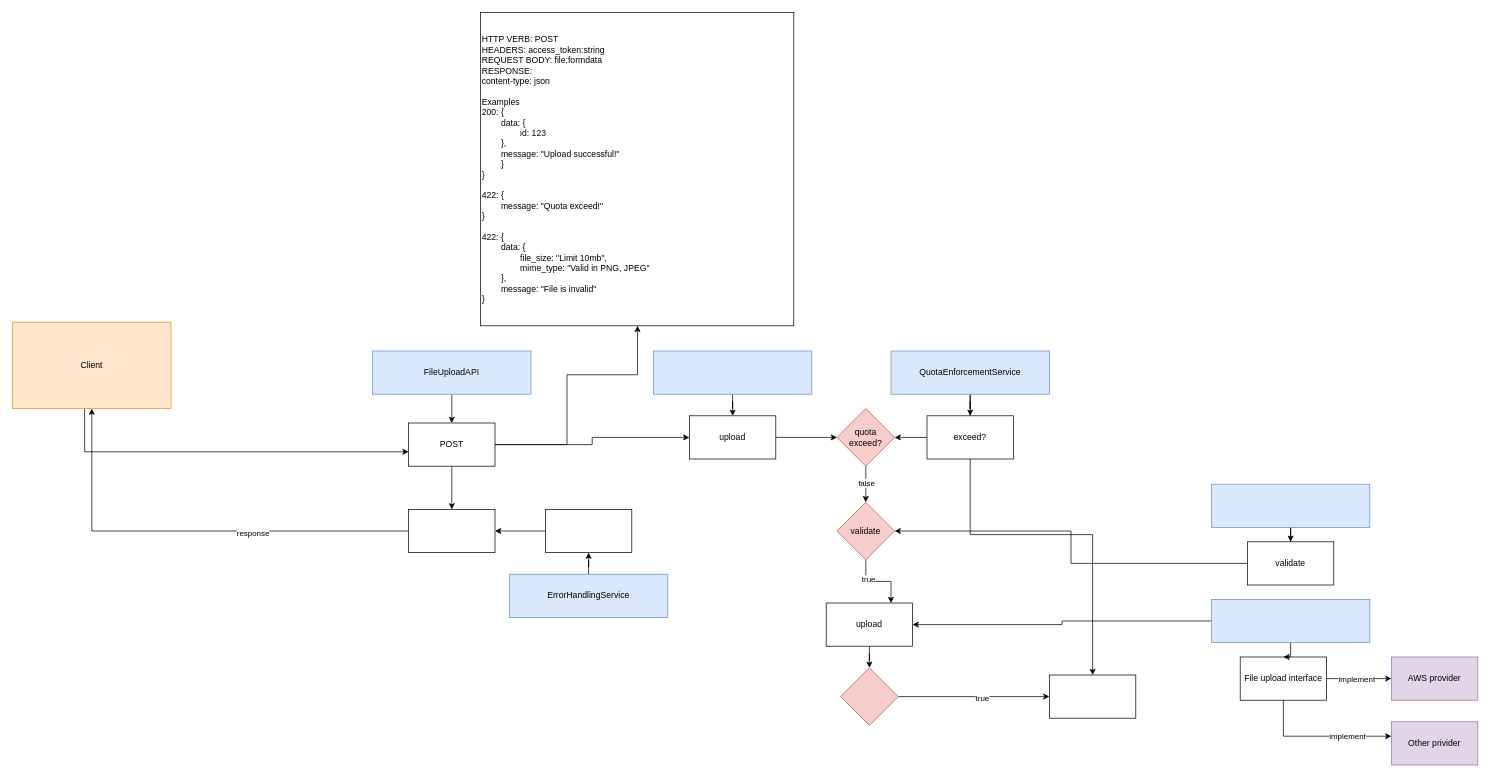
The diagram is 1490 pixels wide and 778 high, and some of its shapes have lost their labels. Here are the shapes that lost their labels. From the top down, the centre of each, then its label:
the point at 732,372: FileService
the point at 1290,505: FileService.Validator
the point at 451,531: process response
the point at 588,531: process
the point at 1290,621: FileService.Uploader
the point at 869,696: upload success?
the point at 1092,696: insert quota usage
